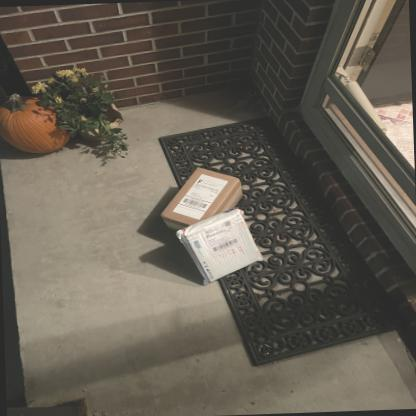box: (160, 166, 241, 231)
plastic_bag: (176, 209, 263, 285)
